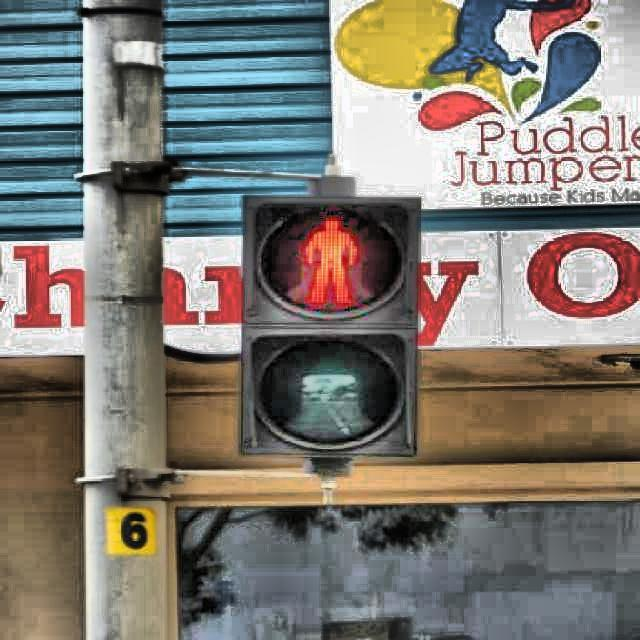semaforo pedestre: (192, 145, 452, 513)
